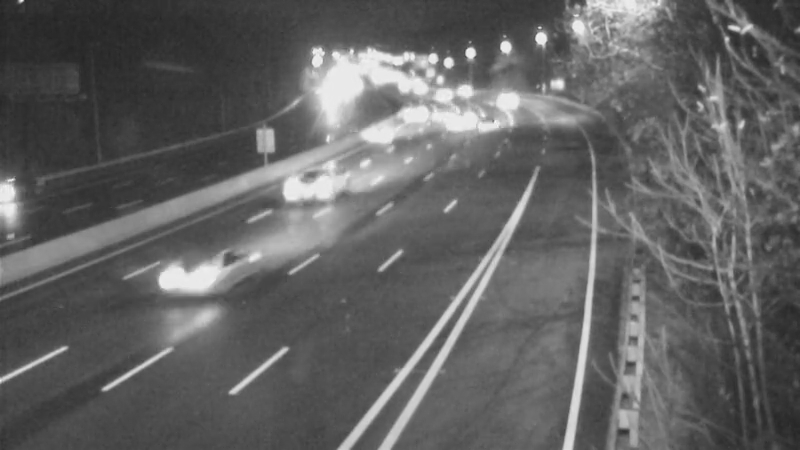vehicle: (272, 143, 352, 223), (144, 242, 224, 322), (1, 147, 67, 227), (477, 75, 527, 125), (416, 92, 466, 142), (390, 86, 440, 136), (461, 99, 511, 149), (435, 99, 485, 149), (352, 108, 402, 158)
